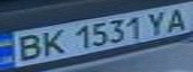1: (69, 21, 93, 51), (121, 14, 148, 40)
3: (106, 16, 130, 44)
5: (90, 19, 112, 47)
A: (160, 4, 193, 33)
B: (6, 32, 48, 63)
K: (36, 27, 69, 57)
Y: (142, 9, 175, 36)
